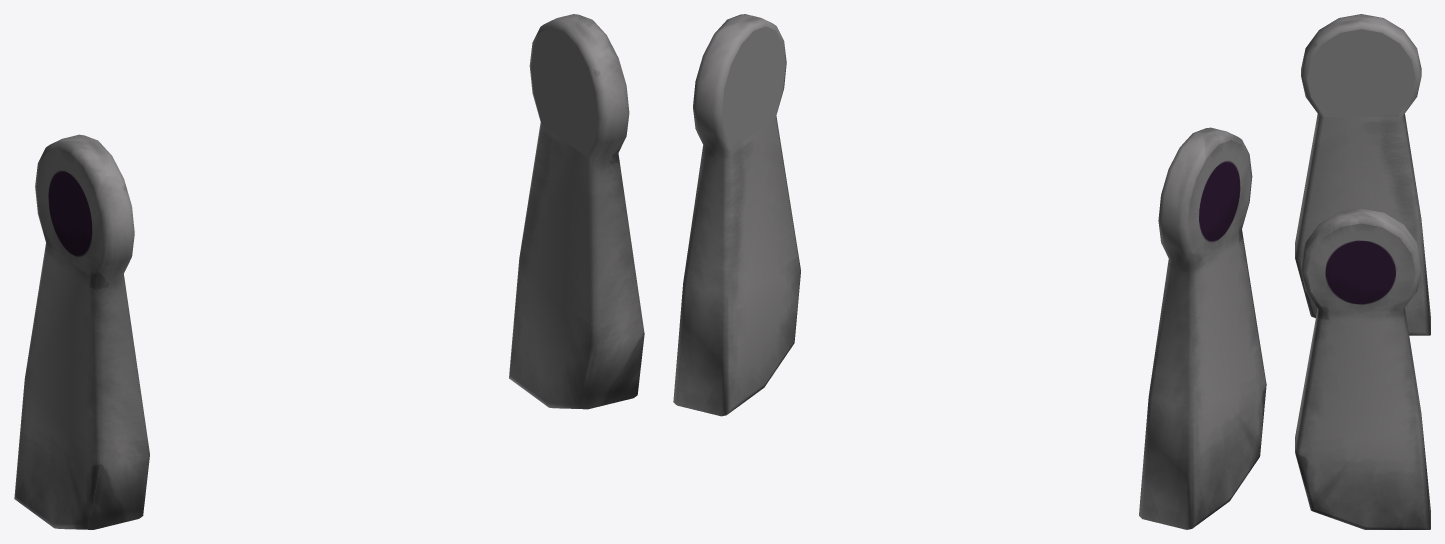
The model's file is Chariot03_chanzi01.FBX.
3 renders of one model, left to right at view 1: azimuth 30°, elevation 25°; view 2: azimuth 150°, elevation 25°; view 3: azimuth 270°, elevation 25°, orthographic. The views are drawn at different scales.
Visible parts, largest first — view 1: Chariot03_chanzi01; view 2: Chariot03_chanzi01; view 3: Chariot03_chanzi01.
Part boxes in pixels (x1=…): Chariot03_chanzi01: x1=14, y1=14, x2=644, y2=529; Chariot03_chanzi01: x1=673, y1=14, x2=1266, y2=529; Chariot03_chanzi01: x1=1295, y1=14, x2=1430, y2=529.
Size of the model in its own units: 0.8669 by 0.5723 by 0.2287.
